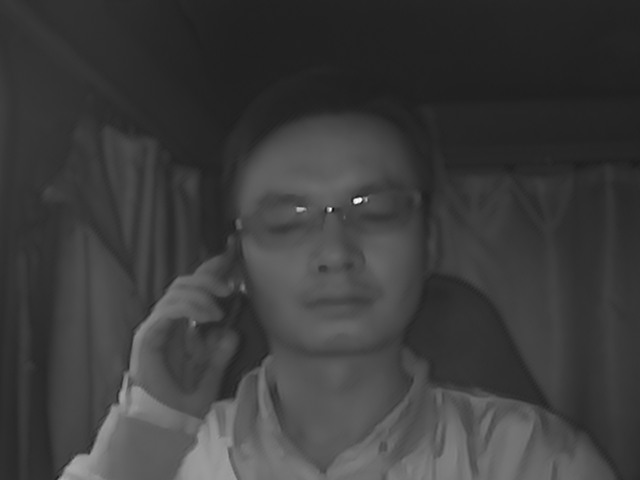hand: (124, 256, 247, 410)
